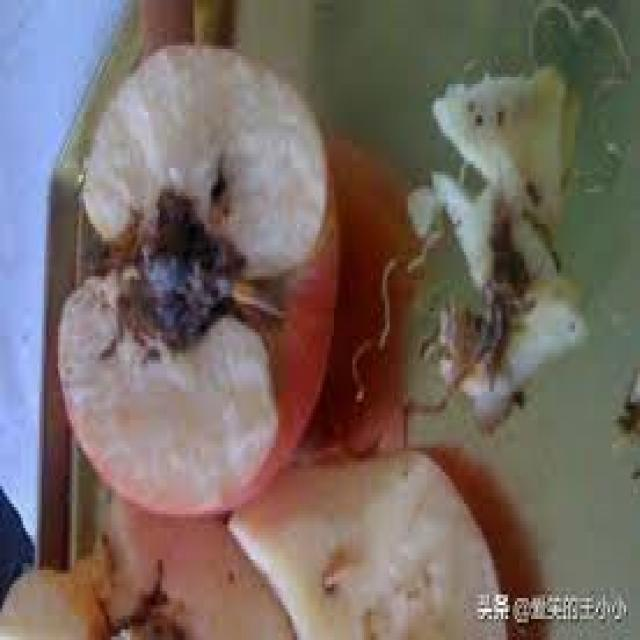organic waste: (54, 38, 336, 510), (223, 448, 503, 636), (0, 489, 294, 636), (419, 276, 586, 434), (429, 63, 577, 231), (404, 168, 561, 294)
